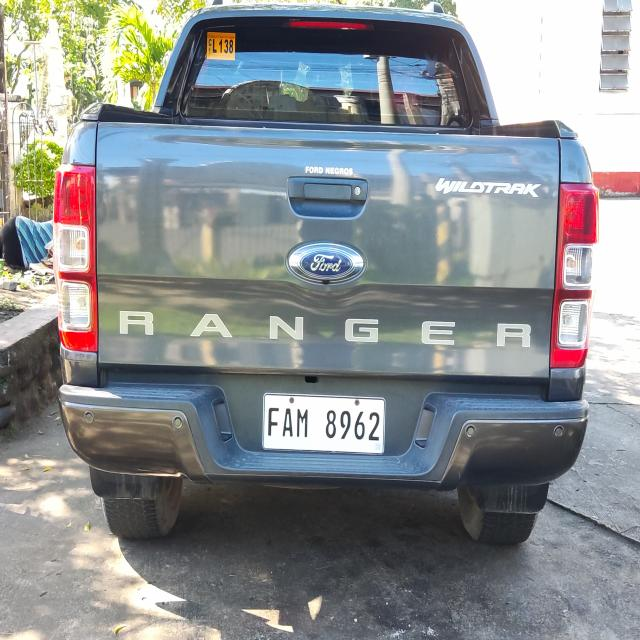plate: (260, 390, 388, 459)
